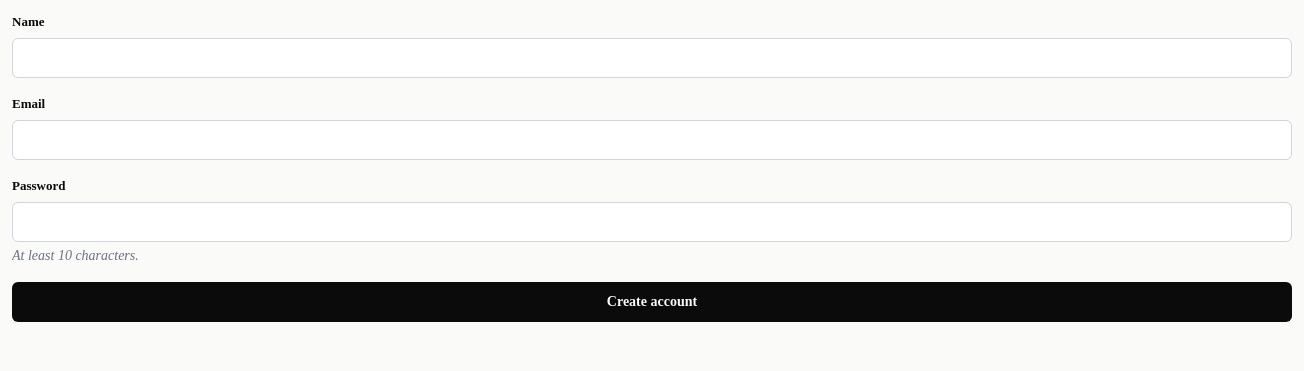
Test: SignUpForm › a password shorter than ten characters is refused before anything is sent
The image size is (1304, 371).
Type "Ana" into the field labelled "Name".
click(652, 58); type("Ana")  # box [12, 38, 1292, 78]
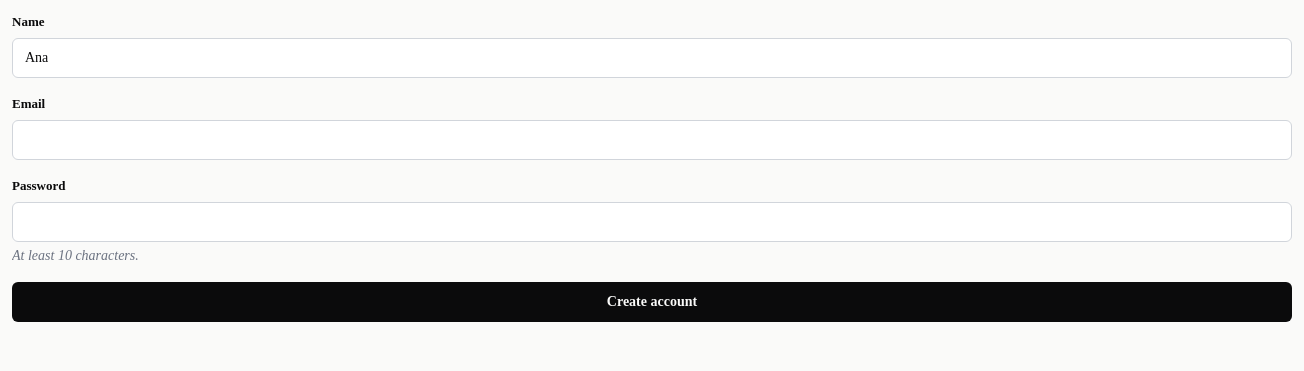
Type "ana@usp.br" into the field labelled "Email".
click(652, 140); type("ana@usp.br")  # box [12, 120, 1292, 160]
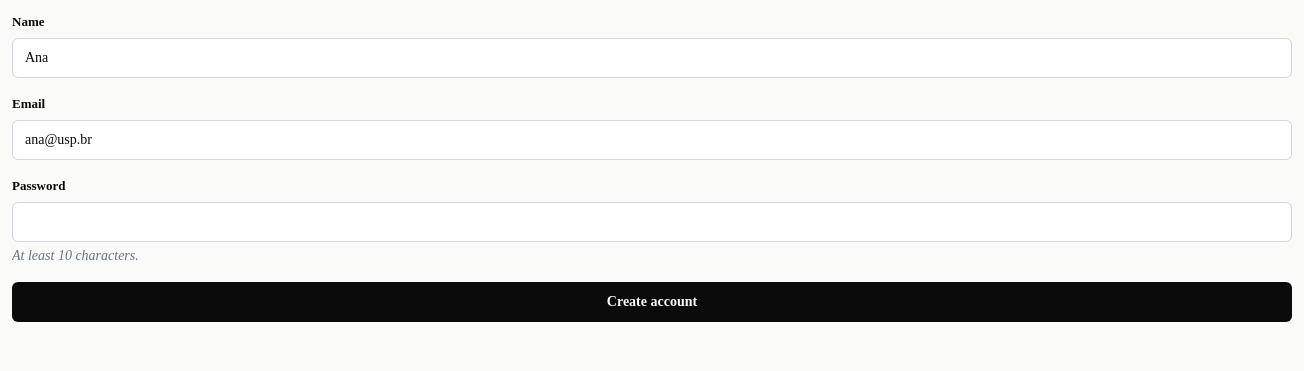
Type "short" into the password field labelled "Password".
click(652, 222); type("short")  # box [12, 202, 1292, 242]
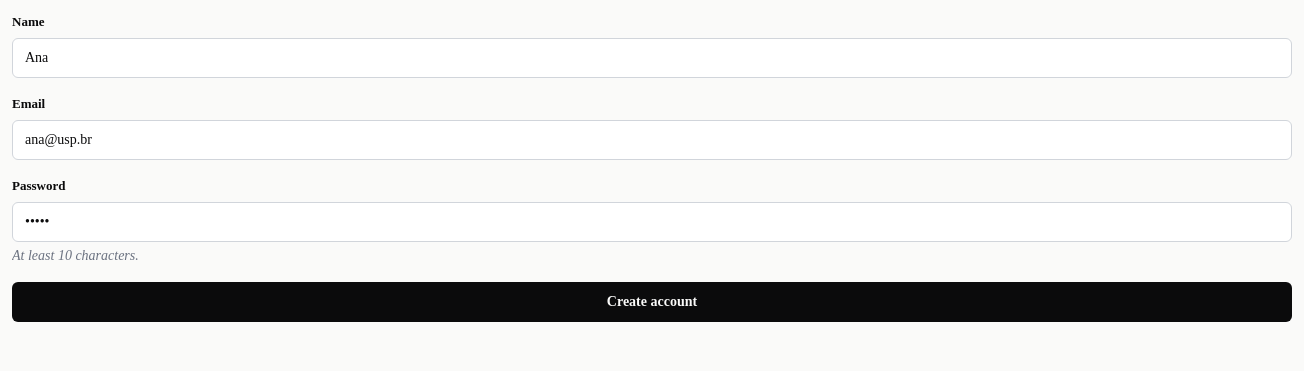
Click the button "Create account".
click(652, 302)  # box [12, 282, 1292, 322]
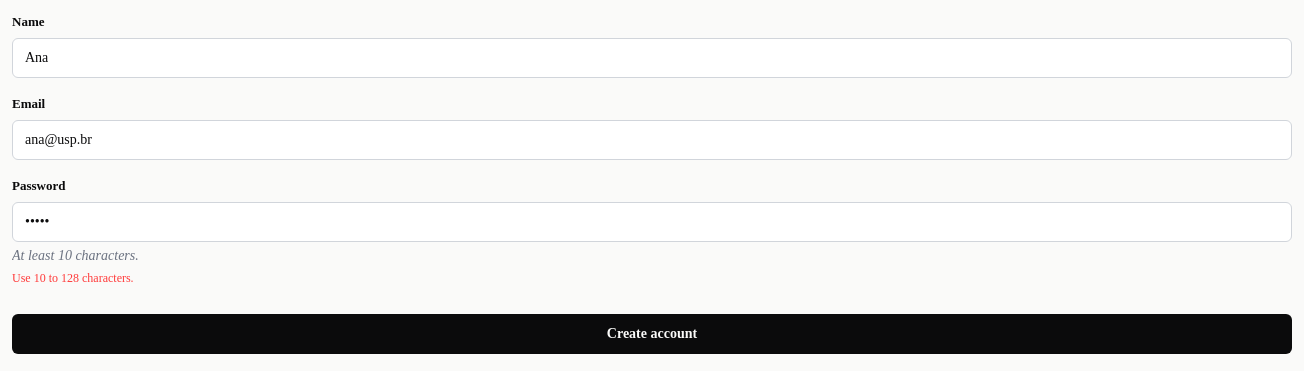
Check: the text "Use 10 to 128 characters." is shown, box [12, 271, 134, 285]
